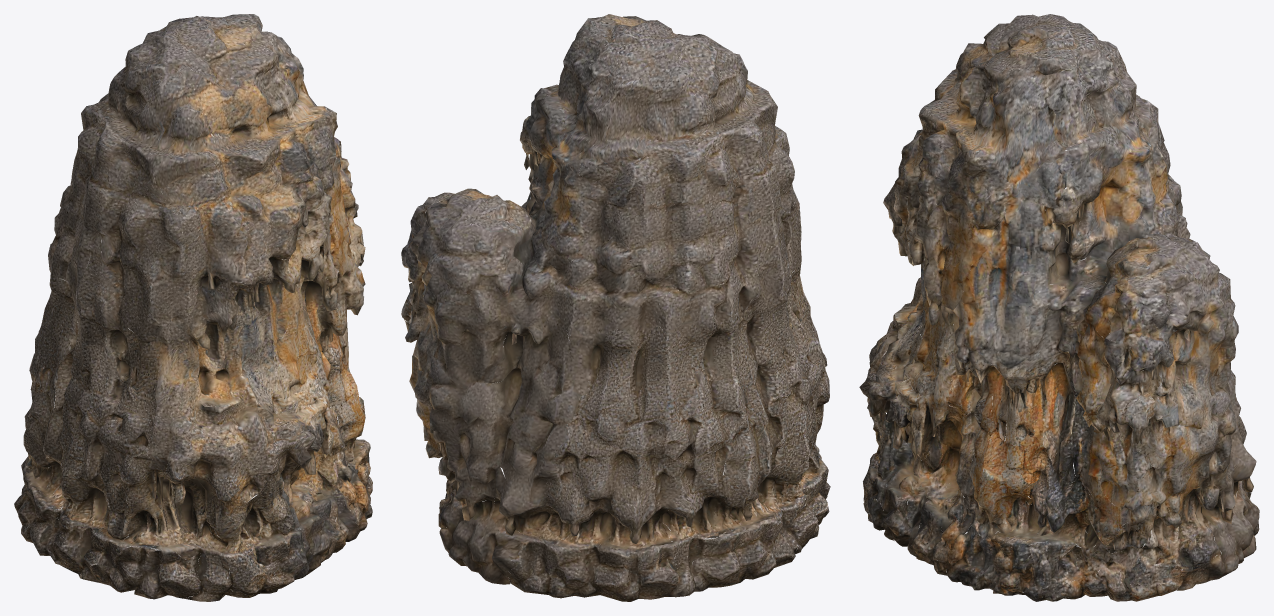
The model's file is karst-b.glb.
3 views of the same model, side by side, from view 1: azimuth 30°, elevation 25°; view 2: azimuth 150°, elevation 25°; view 3: azimuth 270°, elevation 25° (orthographic).
Visible parts, largest first — view 1: tripo_node_9de90daa-0fac-4880-bb73-ec67c2762a7a; view 2: tripo_node_9de90daa-0fac-4880-bb73-ec67c2762a7a; view 3: tripo_node_9de90daa-0fac-4880-bb73-ec67c2762a7a.
Boxes of the visible parts, box(x1,y1,x2,y2) form: tripo_node_9de90daa-0fac-4880-bb73-ec67c2762a7a: box(14, 14, 372, 601); tripo_node_9de90daa-0fac-4880-bb73-ec67c2762a7a: box(401, 14, 830, 601); tripo_node_9de90daa-0fac-4880-bb73-ec67c2762a7a: box(859, 14, 1259, 601).
Size of the model in its own units: 0.75 by 1 by 0.7273.
Materials: 1 (1 with a texture image).
